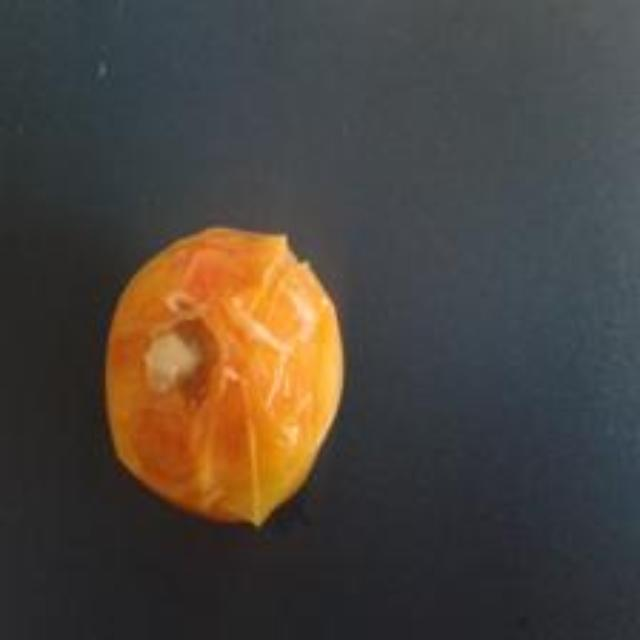defect: (99, 221, 355, 533)
